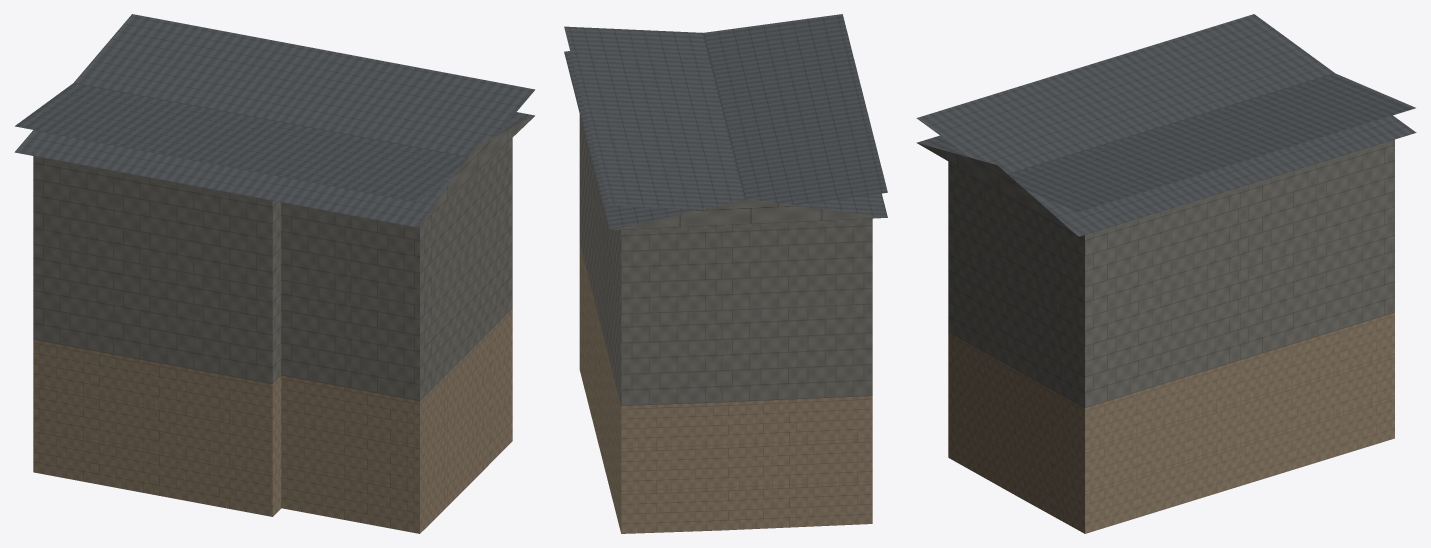
The model's file is bld_c23_15_575.gltf.
The picture shows the model from 3 angles, left to right: view 1: azimuth 30°, elevation 25°; view 2: azimuth 150°, elevation 25°; view 3: azimuth 270°, elevation 25°; orthographic projection. The views are drawn at different scales.
Parts seen in each view (by area): view 1: bld_c23_15_575; view 2: bld_c23_15_575; view 3: bld_c23_15_575.
Boxes of the visible parts, left/top/right/bottom form: bld_c23_15_575: left=14, top=14, right=535, bottom=533; bld_c23_15_575: left=564, top=14, right=887, bottom=533; bld_c23_15_575: left=916, top=14, right=1416, bottom=533.
Size of the model in its own units: 17.22 by 13.4 by 18.37.
4 materials, 4 textured.
